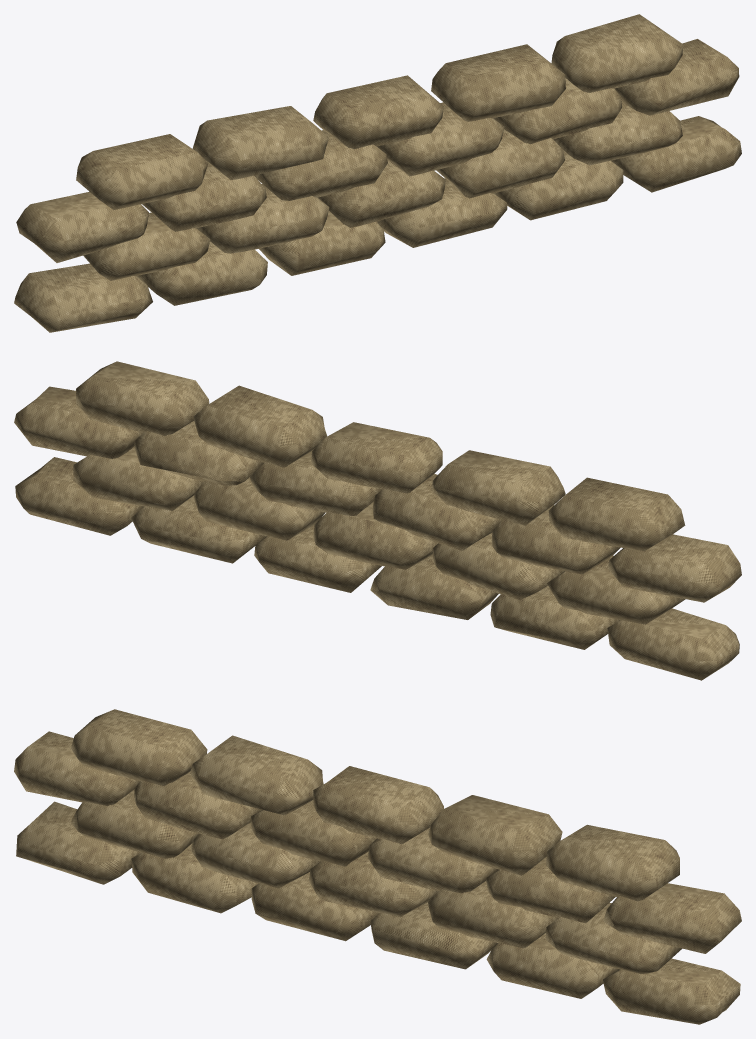
Rendered from sandbag_straight.glb.
3 views of the same model, one above another, from view 1: azimuth 30°, elevation 25°; view 2: azimuth 150°, elevation 25°; view 3: azimuth 330°, elevation 25° (orthographic).
Visible parts, largest first — view 1: Sandbags; view 2: Sandbags; view 3: Sandbags.
Boxes of the visible parts, left/top/right/bottom form: Sandbags: left=14, top=14, right=741, bottom=332; Sandbags: left=14, top=361, right=741, bottom=680; Sandbags: left=14, top=709, right=741, bottom=1024.
Bounding box in the file's own units: 3.96 × 0.837 × 0.4516.
Materials: 1 (1 with a texture image).
